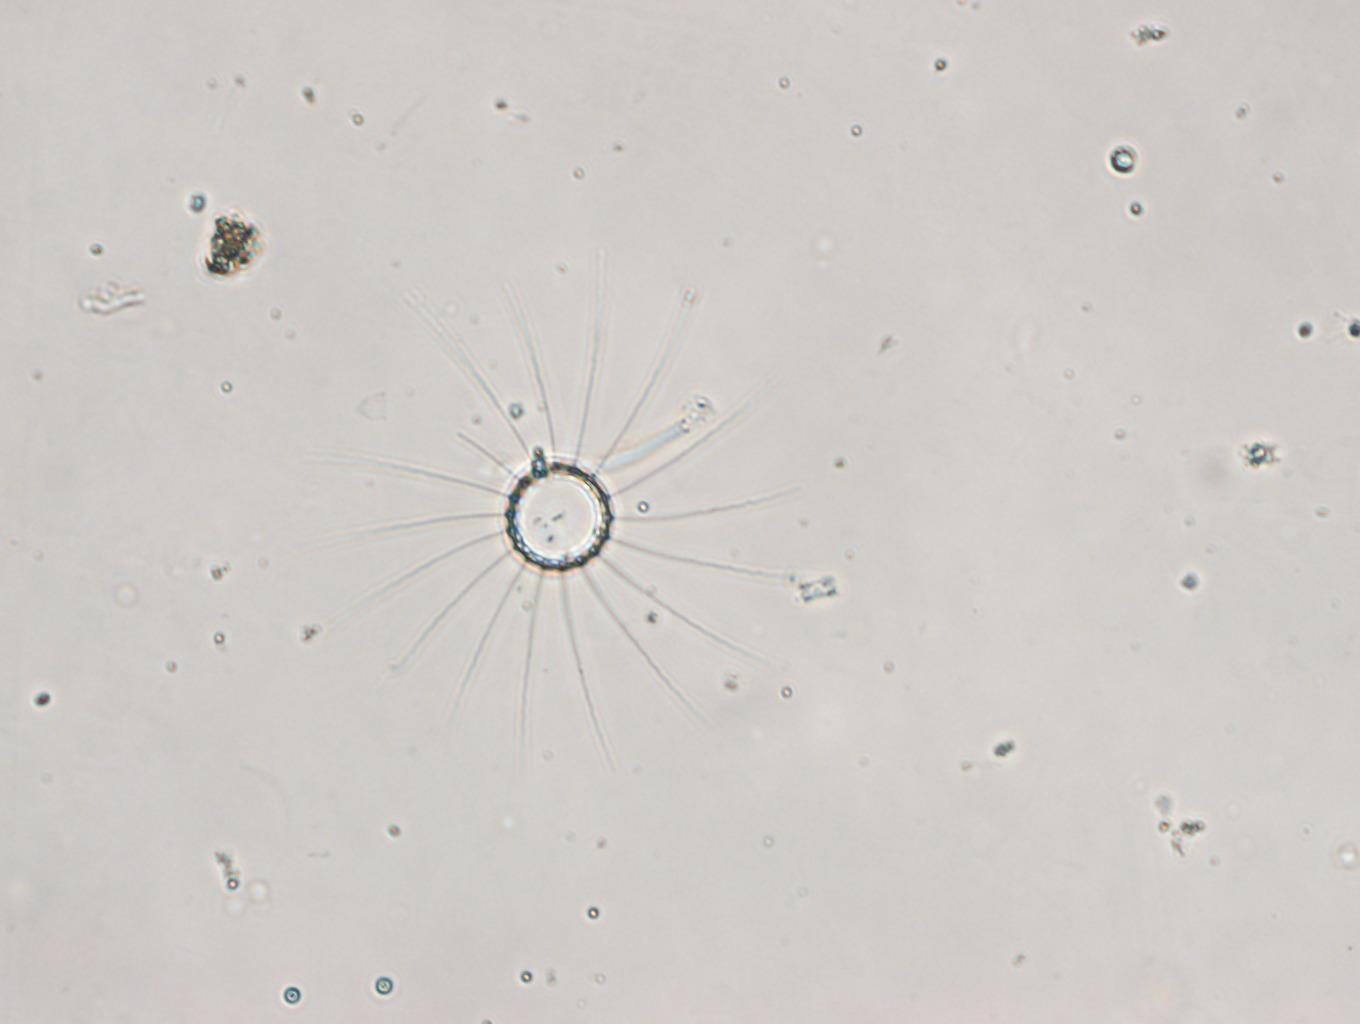bacteriastrum: (306, 273, 816, 764), (304, 271, 814, 762)
